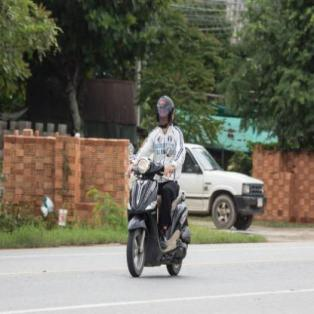Motocicleta: (122, 143, 194, 283)
